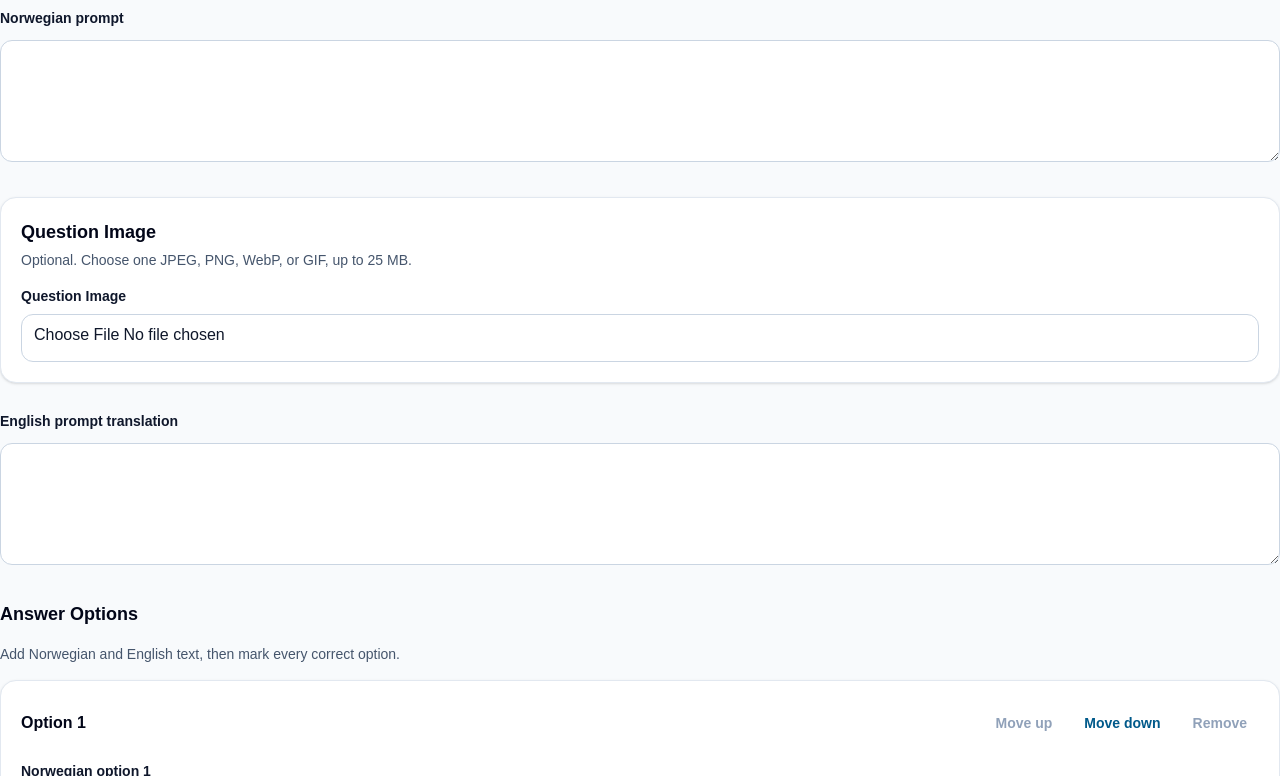
Scenario: Quiz Question form › keeps Question content when saving fails
Type "Hva betyr høflig?" into the text box labelled "Norwegian prompt".
click(640, 101); type("Hva betyr høflig?")  # box [0,40,1279,162]
(page scrolled)
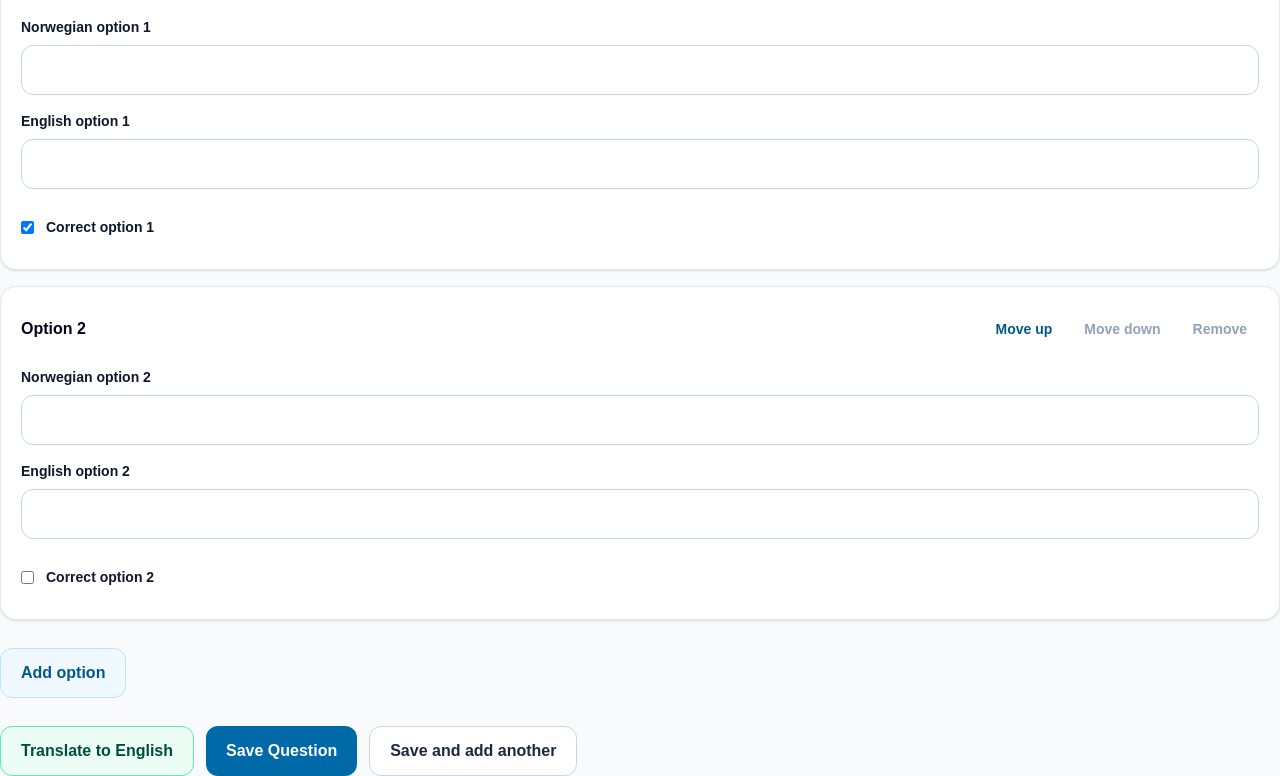
Click the button "Save and add another".
click(473, 751)  # box [369,726,578,775]
(page scrolled)
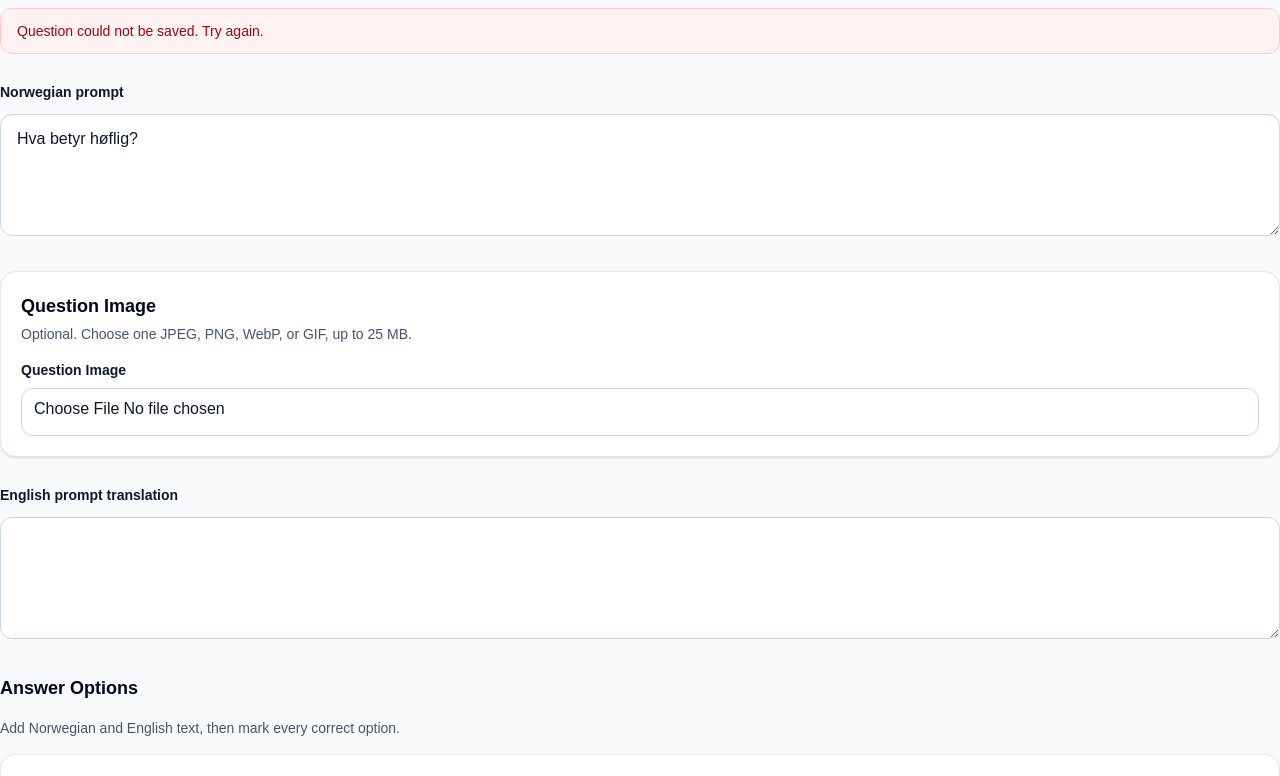
Expected: the message reads "Question could not be saved. Try again.", [17,23,264,39]
